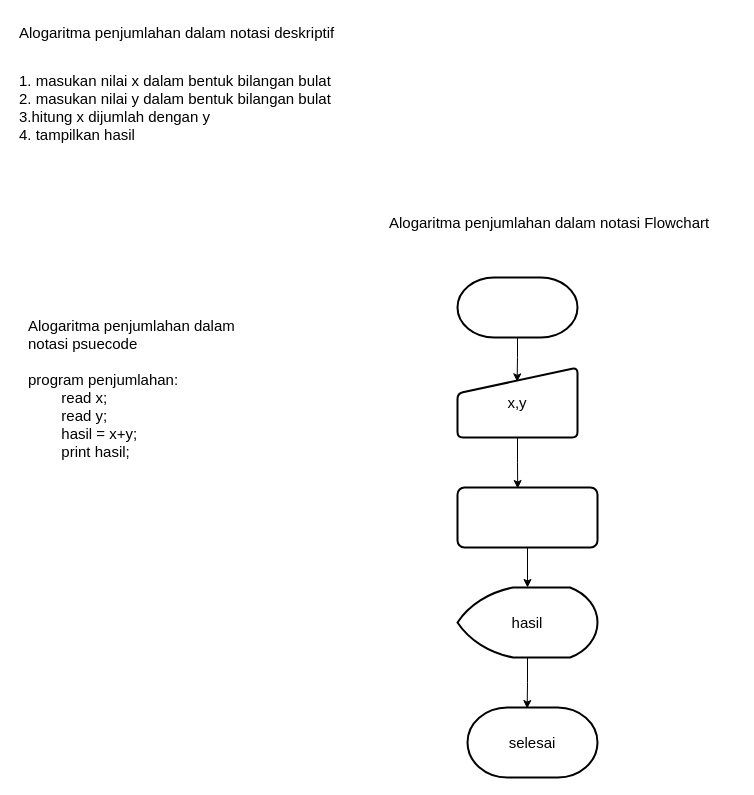
This 754x795 diagram has some shape labels left out. Here are the shapes that lost their labels. From the top down, the box of each, then its label:
(456, 276, 578, 338): Mulai
(456, 486, 598, 548): hasil = x+y
